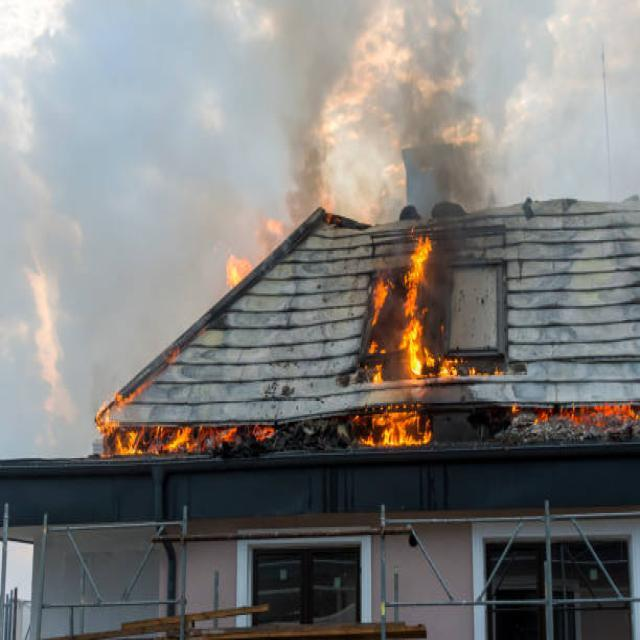Fire: (371, 255, 458, 448), (97, 402, 274, 449)
Smoke: (294, 7, 496, 205)
